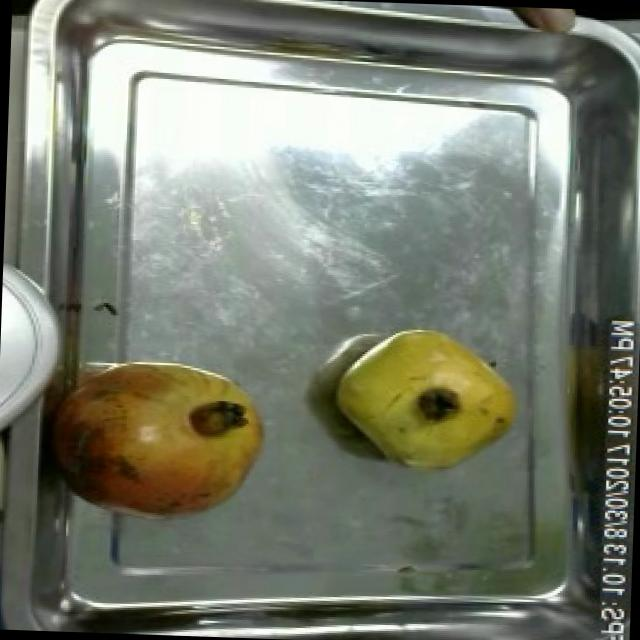fruit: (35, 344, 278, 538), (324, 316, 534, 484), (492, 6, 588, 39)
